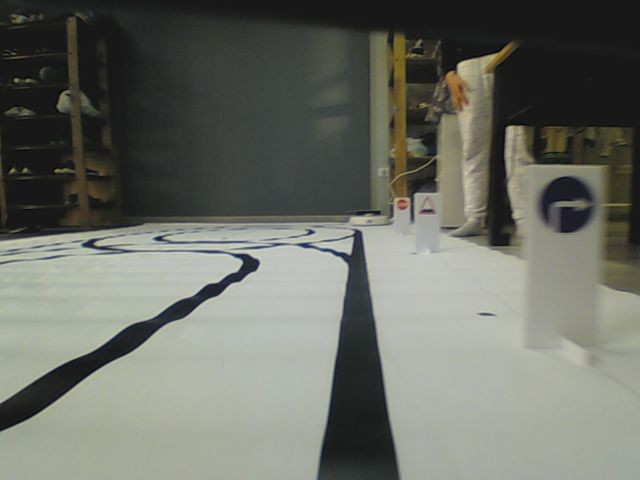Nerov: (418, 195, 436, 216)
Right: (540, 175, 594, 234)
